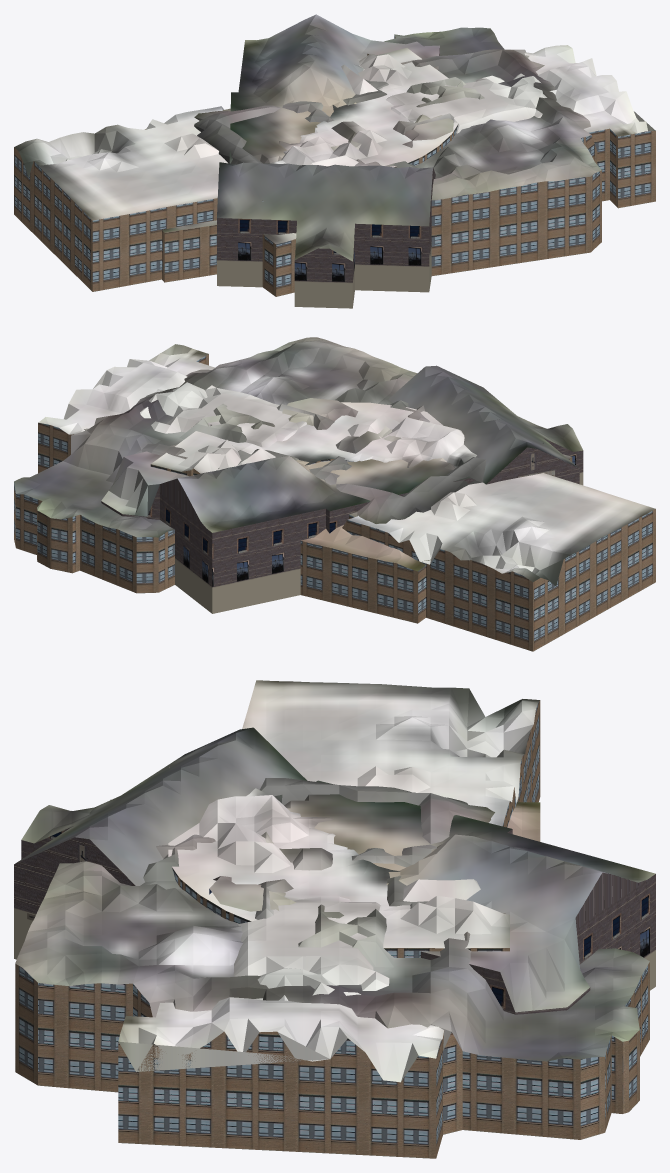
File: broomfield-landmarks.glb
The picture shows the model from 3 angles, top to bottom: view 1: azimuth 30°, elevation 25°; view 2: azimuth 150°, elevation 25°; view 3: azimuth 270°, elevation 25°; orthographic projection. The views are drawn at different scales.
Parts seen in each view (by area): view 1: Broomfield Municipal Court, Mamie Doud Eisenhower Public Library, City & County Broomfield, North Metro Fire Rescue Headquarters, U.S. Post Office; view 2: Broomfield Municipal Court, Mamie Doud Eisenhower Public Library, City & County Broomfield, North Metro Fire Rescue Headquarters, U.S. Post Office; view 3: City & County Broomfield, Broomfield Municipal Court, Mamie Doud Eisenhower Public Library, North Metro Fire Rescue Headquarters, U.S. Post Office.
Part boxes in pixels (x1=…): Broomfield Municipal Court: x1=14, y1=45, x2=655, y2=291; Mamie Doud Eisenhower Public Library: x1=217, y1=14, x2=453, y2=308; City & County Broomfield: x1=162, y1=27, x2=601, y2=282; North Metro Fire Rescue Headquarters: x1=262, y1=48, x2=458, y2=201; U.S. Post Office: x1=145, y1=128, x2=296, y2=296; Broomfield Municipal Court: x1=38, y1=344, x2=655, y2=651; Mamie Doud Eisenhower Public Library: x1=101, y1=365, x2=583, y2=613; City & County Broomfield: x1=14, y1=337, x2=486, y2=593; North Metro Fire Rescue Headquarters: x1=150, y1=402, x2=543, y2=476; U.S. Post Office: x1=300, y1=454, x2=572, y2=623; City & County Broomfield: x1=15, y1=778, x2=649, y2=1139; Broomfield Municipal Court: x1=118, y1=680, x2=540, y2=1158; Mamie Doud Eisenhower Public Library: x1=14, y1=727, x2=655, y2=1014; North Metro Fire Rescue Headquarters: x1=168, y1=766, x2=509, y2=957; U.S. Post Office: x1=110, y1=799, x2=540, y2=841.
Bounding box in the file's own units: 97.5 × 18.24 × 70.3.
Materials: 13 (8 with a texture image).
